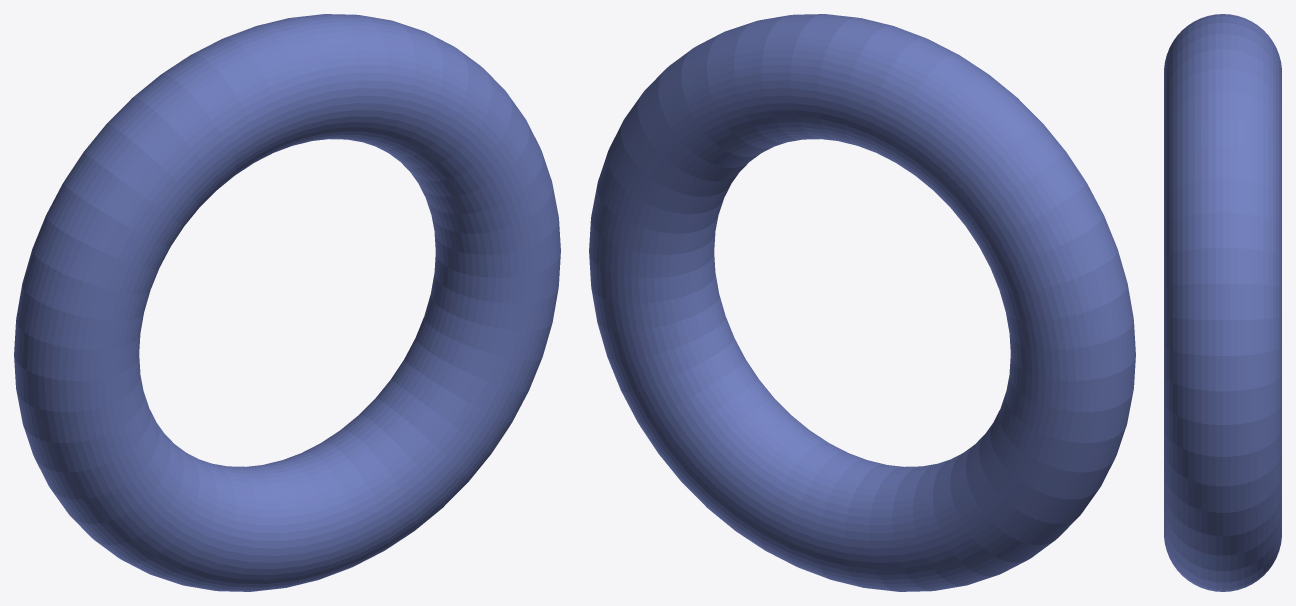
3 views of the same model, side by side, from view 1: azimuth 30°, elevation 25°; view 2: azimuth 150°, elevation 25°; view 3: azimuth 270°, elevation 25° (orthographic). The views are drawn at different scales.
Visible parts, largest first — view 1: world; view 2: world; view 3: world.
Part boxes in pixels (x1=…): world: x1=14, y1=14, x2=560, y2=591; world: x1=589, y1=14, x2=1135, y2=591; world: x1=1164, y1=14, x2=1281, y2=591.
Bounding box in the file's own units: 17.6 × 17.57 × 3.59.
